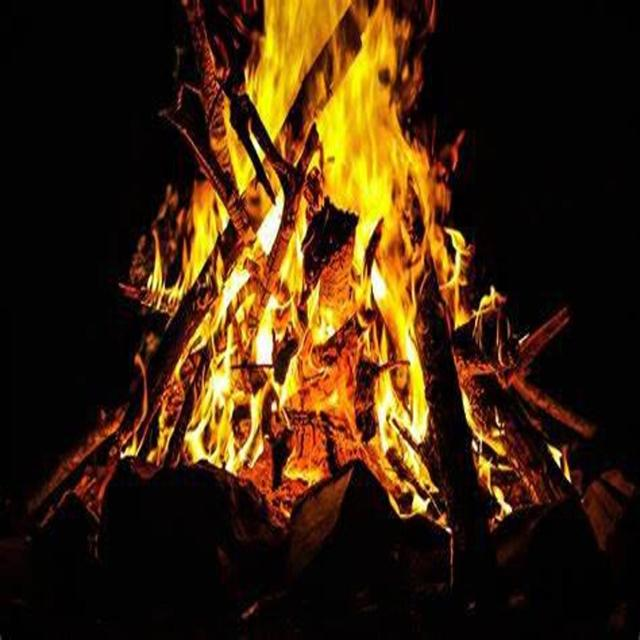fire: (199, 217, 352, 478), (248, 5, 418, 188)
